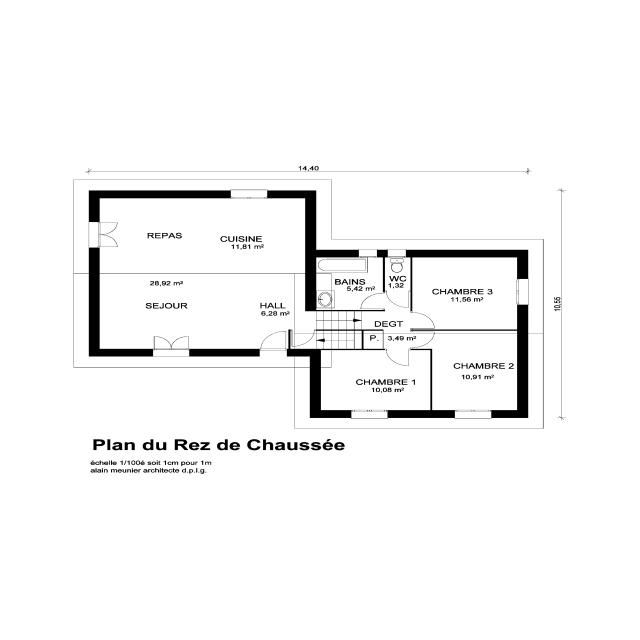door: (255, 328, 292, 355), (93, 218, 123, 250), (148, 333, 194, 350), (288, 328, 316, 349), (357, 291, 387, 310), (386, 347, 412, 368), (410, 310, 438, 329), (411, 330, 438, 349), (386, 291, 412, 309)
window: (224, 188, 273, 200), (513, 276, 531, 308), (450, 408, 495, 420), (346, 408, 394, 419), (146, 348, 195, 357), (354, 248, 382, 258), (385, 248, 409, 259)
zone: (89, 196, 314, 274), (95, 274, 307, 351), (409, 254, 522, 330), (425, 327, 520, 410), (319, 348, 430, 411), (314, 255, 384, 311), (385, 255, 410, 297), (320, 330, 364, 350), (363, 330, 383, 349)
